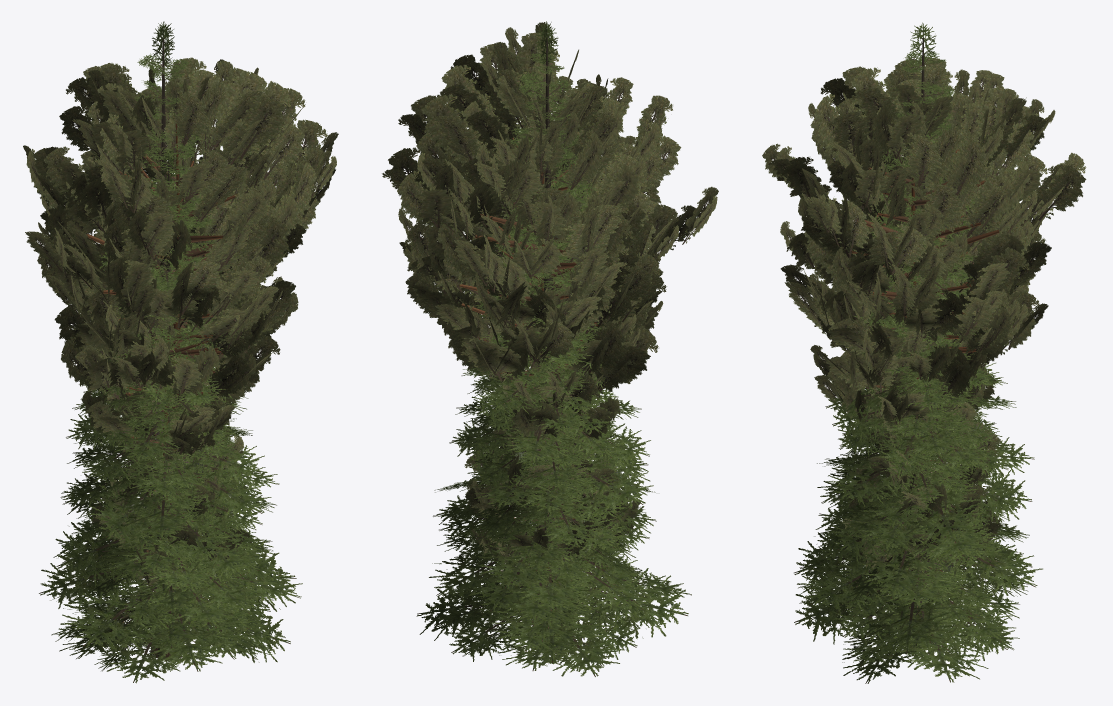
The model's file is trees-lod.glb.
The picture shows the model from 3 angles, left to right: view 1: azimuth 30°, elevation 25°; view 2: azimuth 150°, elevation 25°; view 3: azimuth 270°, elevation 25°; orthographic projection.
Parts seen in each view (by area): view 1: fir-b__branches, pine-c__branches, pine-a__branches, fir-a__branches, pine-b__branches, pine-young__branches, pine-c__bark, fir-b__bark; view 2: fir-b__branches, pine-c__branches, pine-a__branches, fir-a__branches, pine-young__branches, pine-b__branches, pine-c__bark, fir-b__bark; view 3: pine-c__branches, fir-b__branches, pine-a__branches, fir-a__branches, pine-b__branches, pine-young__branches, pine-c__bark.
Part boxes in pixels (bbox=[...]): fir-b__branches: bbox=[39, 21, 302, 683]; pine-c__branches: bbox=[23, 57, 338, 358]; pine-a__branches: bbox=[40, 140, 291, 403]; fir-a__branches: bbox=[67, 150, 276, 671]; pine-b__branches: bbox=[81, 258, 280, 457]; pine-young__branches: bbox=[90, 381, 251, 590]; pine-c__bark: bbox=[86, 123, 237, 660]; fir-b__bark: bbox=[151, 37, 180, 658]; fir-b__branches: bbox=[416, 21, 691, 676]; pine-c__branches: bbox=[382, 22, 718, 359]; pine-a__branches: bbox=[399, 122, 670, 397]; fir-a__branches: bbox=[452, 152, 652, 671]; pine-young__branches: bbox=[464, 359, 640, 566]; pine-b__branches: bbox=[473, 240, 644, 443]; pine-c__bark: bbox=[459, 137, 596, 649]; fir-b__bark: bbox=[541, 37, 560, 649]; pine-c__branches: bbox=[762, 57, 1086, 359]; fir-b__branches: bbox=[794, 22, 1042, 683]; pine-a__branches: bbox=[780, 150, 1048, 399]; fir-a__branches: bbox=[820, 154, 1019, 670]; pine-b__branches: bbox=[810, 233, 996, 425]; pine-young__branches: bbox=[842, 356, 1002, 571]; pine-c__bark: bbox=[851, 147, 999, 646].
Bounding box in the file's own units: 17.14 × 31.38 × 15.49.
4 materials, 4 textured.
